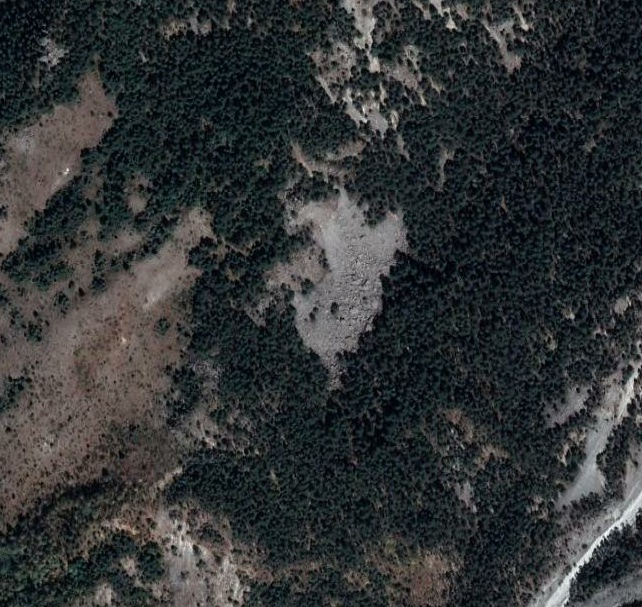slope: (259, 176, 419, 386)
